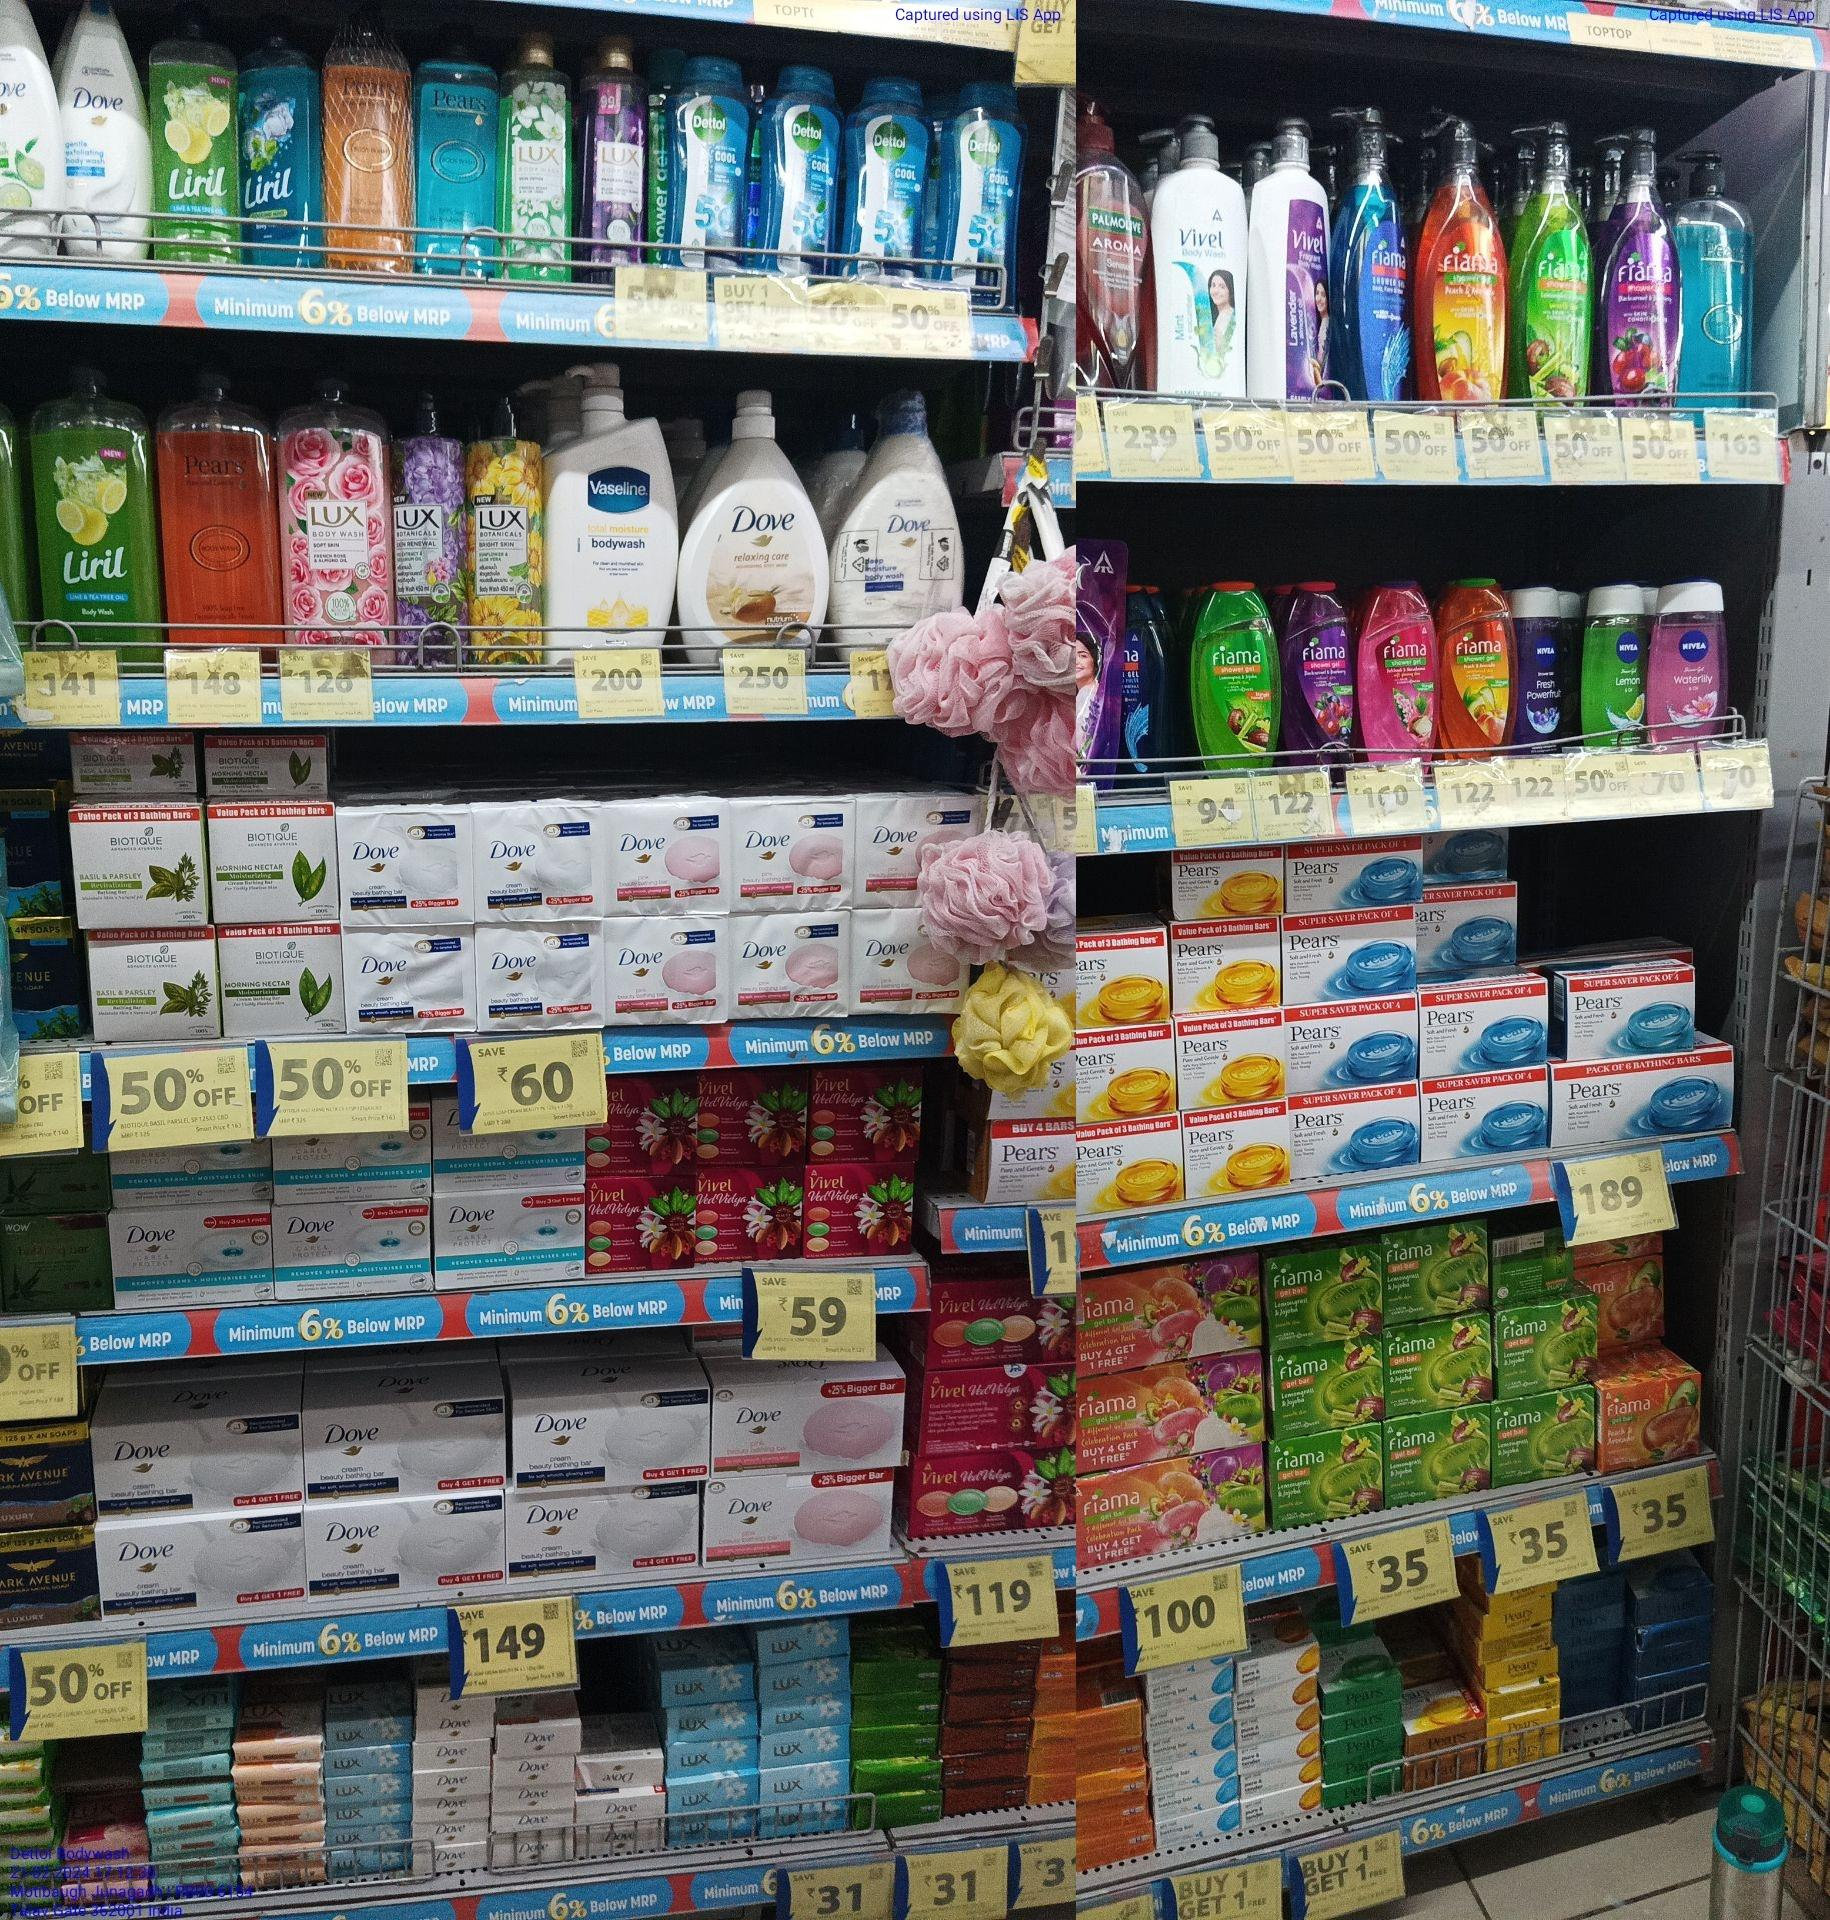Dettol_Bodywash_Cool: (939, 75, 1028, 312), (661, 53, 754, 271), (845, 63, 936, 278), (757, 60, 845, 278)
Dove_Gentle_Exfoliating_Body_Wash_250ML: (60, 0, 151, 264)
Fiama_Shower_Gel_Lemongrass_and_Jojoba_250ML: (1187, 578, 1282, 778)
Fiama_Shower_Gel_Patchouli_and_Macadamia_250ML: (1354, 578, 1441, 763)
Fiama_Shower_Gel_Peach_and_Avocado_250ML: (1439, 576, 1522, 761)
Liril_Cooling_Mint_Body_Wash_250ML: (240, 10, 326, 266)
Liril_Lime_and_Tea_Tree_Oil_Body_Wash_250ML: (27, 351, 159, 651), (151, 7, 242, 264)
Lux_Black_Orchid_Scent_and_Juniper_Oil_Body_Wash_245ML: (574, 31, 648, 283)
Lux_Body_Wash_Skin_Detox_Freesia_Scent_and_Alove_Vera_245ML: (502, 24, 572, 286)
Nivea_Shower_Gel_Lemon_and_Oil_250ML: (1578, 579, 1645, 747)
Nivea_Shower_Gel_Waterlily_and_Oil_250ML: (1647, 576, 1729, 749)
Pears_Pure_Glycerin_and_Mint_Extracts_Body_Wash_250ML: (410, 19, 497, 279)
